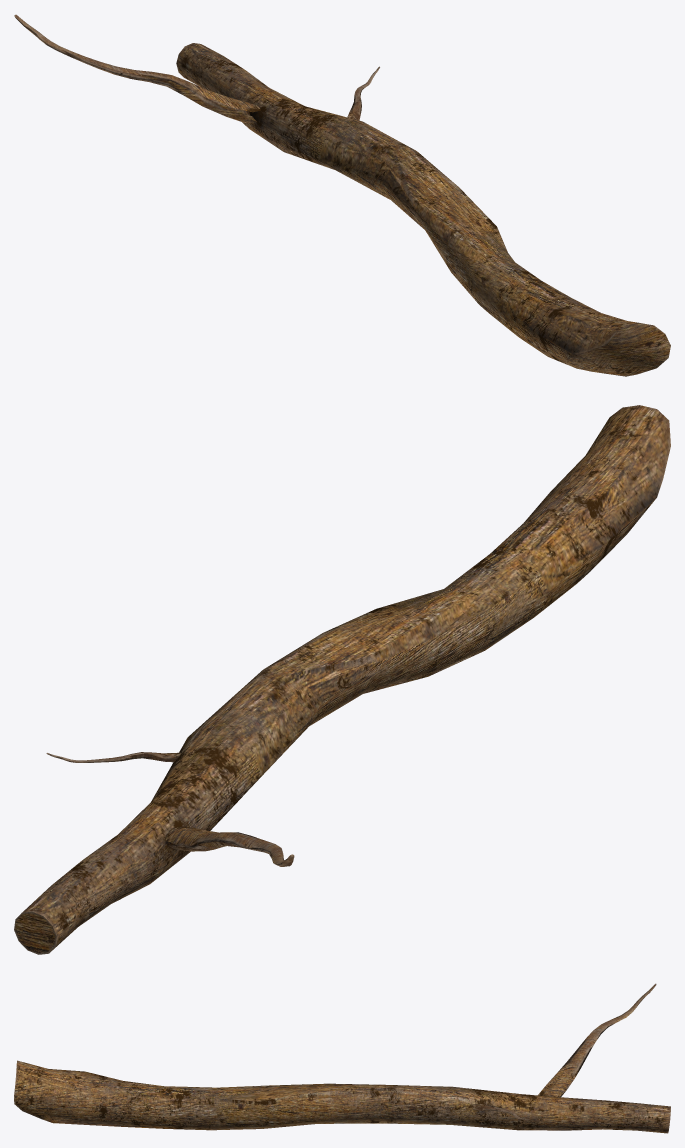
File: SM_Sticks_Large_04.fbx
3 views of the same model, one above another, from view 1: azimuth 30°, elevation 25°; view 2: azimuth 150°, elevation 25°; view 3: azimuth 270°, elevation 25° (orthographic). The views are drawn at different scales.
Parts seen in each view (by area): view 1: SM_Sticks_Large_04; view 2: SM_Sticks_Large_04; view 3: SM_Sticks_Large_04.
Boxes of the visible parts, bbox=[...] form: SM_Sticks_Large_04: bbox=[14, 14, 670, 376]; SM_Sticks_Large_04: bbox=[14, 405, 670, 954]; SM_Sticks_Large_04: bbox=[14, 983, 670, 1133].
Bounding box in the file's own units: 34.18 × 97.53 × 13.62.
Materials: 1 (1 with a texture image).
